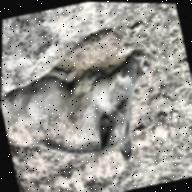boar: (0, 32, 180, 181)
